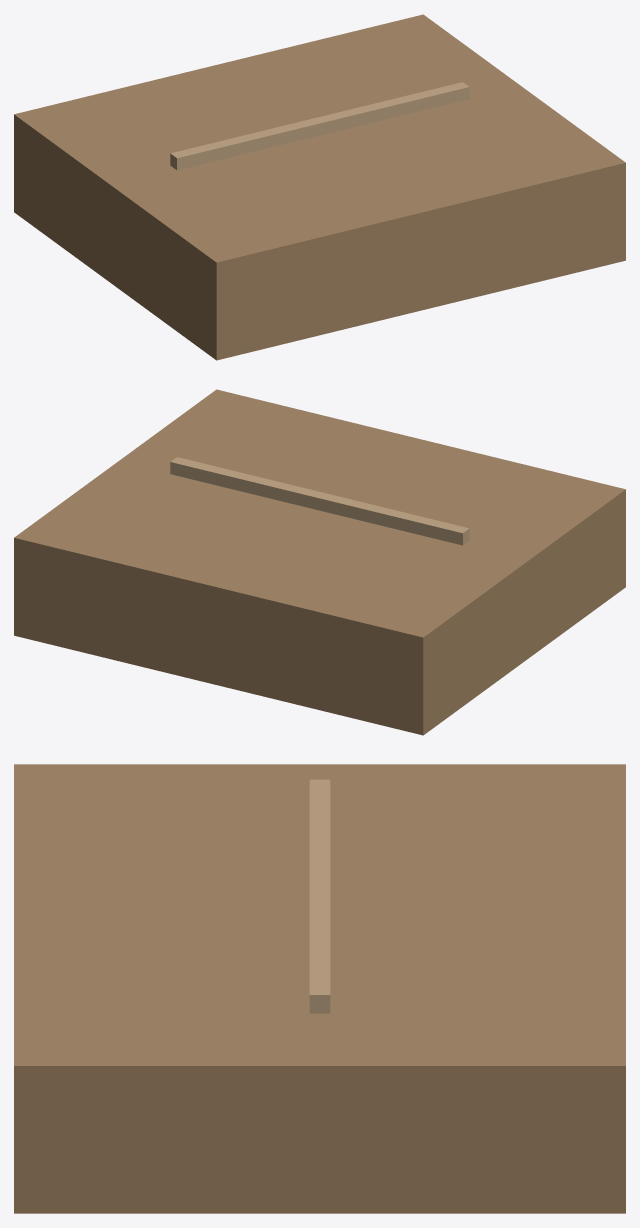
File: worked_leather.glb
3 views of the same model, one above another, from view 1: azimuth 30°, elevation 25°; view 2: azimuth 150°, elevation 25°; view 3: azimuth 270°, elevation 25° (orthographic). The views are drawn at different scales.
Visible parts, largest first — view 1: hide, stitch; view 2: hide, stitch; view 3: hide, stitch.
Boxes of the visible parts, x1,y1,x2,y2 form: hide: (14, 14, 625, 360); stitch: (170, 82, 469, 170); hide: (14, 389, 625, 735); stitch: (170, 457, 469, 545); hide: (14, 764, 625, 1213); stitch: (309, 779, 330, 1013).
Size of the model in its own units: 0.035 by 0.0095 by 0.03.
